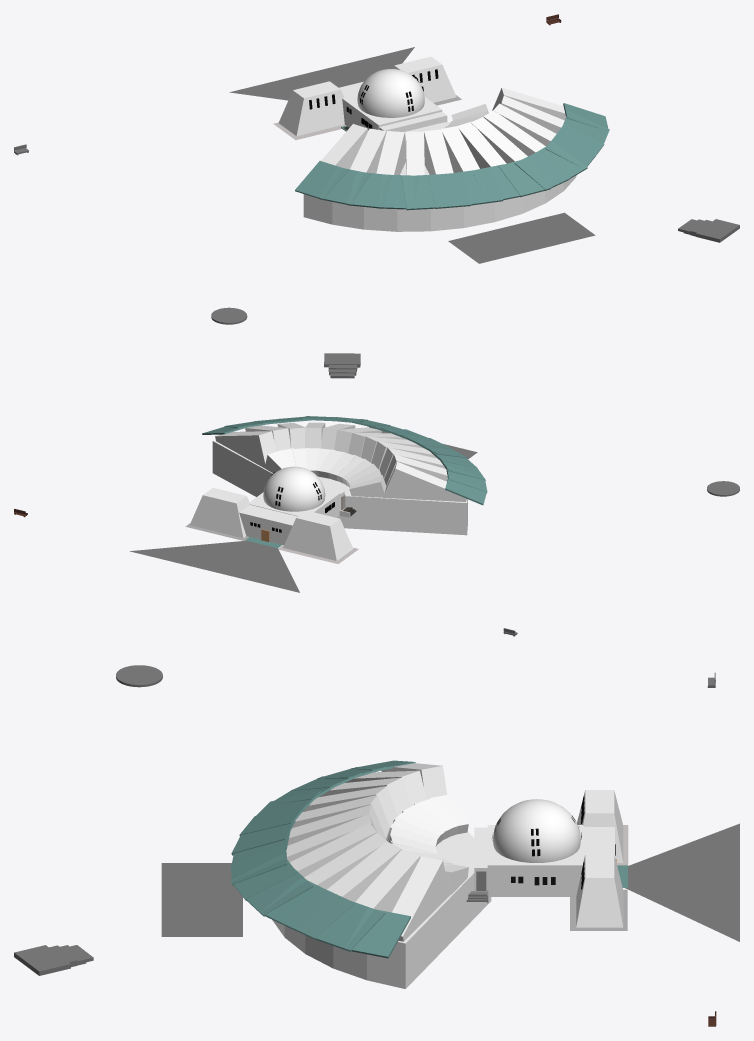
The model's file is asmundarsafn_cpy_to_test_16.obj.
3 views of the same model, one above another, from view 1: azimuth 30°, elevation 25°; view 2: azimuth 150°, elevation 25°; view 3: azimuth 270°, elevation 25° (orthographic). The views are drawn at different scales.
Visible parts, largest first — view 1: Cube.047, Cube.033, syningarsalur, Plane.035, pavement, Sphere, h_hlid, v_hlid, innanhus, Cube, Cube.019, Cylinder; view 2: Cube.033, syningarsalur, pavement, Cube.047, h_hlid, Sphere, v_hlid, adaldyr, Cube, innanhus, Plane; view 3: Cube.033, Cube.047, pavement, syningarsalur, Plane.035, Sphere, innanhus, v_hlid, h_hlid, Cube, Plane, adaldyr (+2 smaller).
Boxes of the visible parts, bbox=[...] form: Cube.047: bbox=[295, 103, 609, 210]; Cube.033: bbox=[321, 87, 565, 175]; syningarsalur: bbox=[303, 122, 576, 231]; Plane.035: bbox=[448, 212, 595, 263]; pavement: bbox=[229, 47, 414, 100]; Sphere: bbox=[357, 69, 424, 117]; h_hlid: bbox=[278, 81, 344, 136]; v_hlid: bbox=[393, 56, 456, 102]; innanhus: bbox=[342, 94, 442, 130]; Cube: bbox=[678, 219, 739, 242]; Cube.019: bbox=[379, 112, 447, 131]; Cylinder: bbox=[211, 307, 247, 324]; Cube.033: bbox=[215, 422, 466, 501]; syningarsalur: bbox=[212, 440, 467, 535]; pavement: bbox=[130, 540, 299, 592]; Cube.047: bbox=[202, 416, 487, 505]; h_hlid: bbox=[283, 510, 353, 560]; Sphere: bbox=[263, 466, 325, 511]; v_hlid: bbox=[190, 487, 250, 538]; adaldyr: bbox=[239, 505, 297, 545]; Cube: bbox=[324, 353, 360, 378]; innanhus: bbox=[250, 489, 340, 517]; Plane: bbox=[185, 523, 358, 564]; Cube.033: bbox=[286, 763, 468, 941]; Cube.047: bbox=[230, 760, 415, 958]; pavement: bbox=[625, 823, 739, 941]; syningarsalur: bbox=[272, 831, 491, 988]; Plane.035: bbox=[161, 863, 242, 936]; Sphere: bbox=[493, 799, 580, 862]; innanhus: bbox=[487, 825, 584, 896]; v_hlid: bbox=[576, 854, 623, 927]; h_hlid: bbox=[577, 790, 623, 862]; Cube: bbox=[14, 945, 93, 975]; Plane: bbox=[570, 825, 628, 930]; adaldyr: bbox=[584, 827, 614, 856].
Size of the model in its own units: 72.47 by 9.13 by 61.73.
